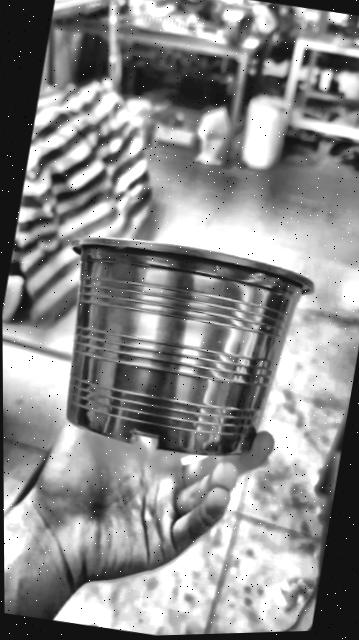pot: (66, 237, 311, 455)
